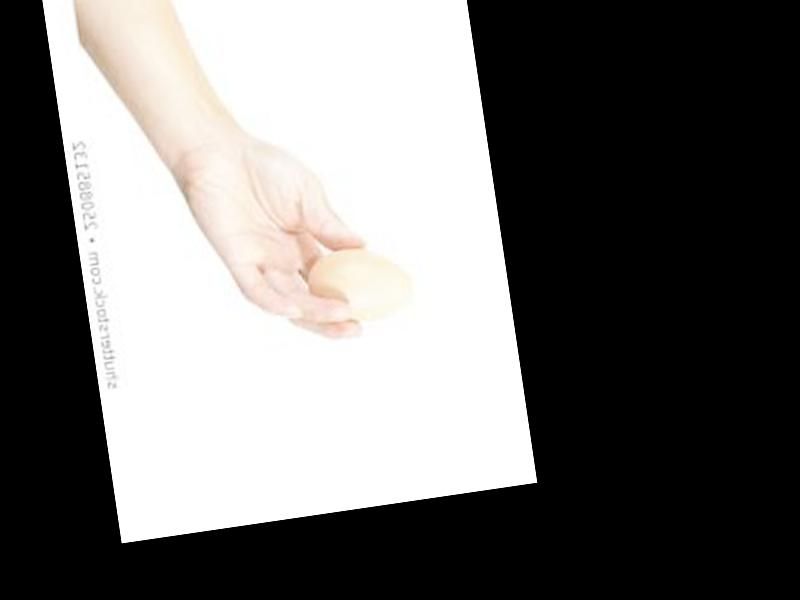Eggs: (300, 240, 418, 329)
